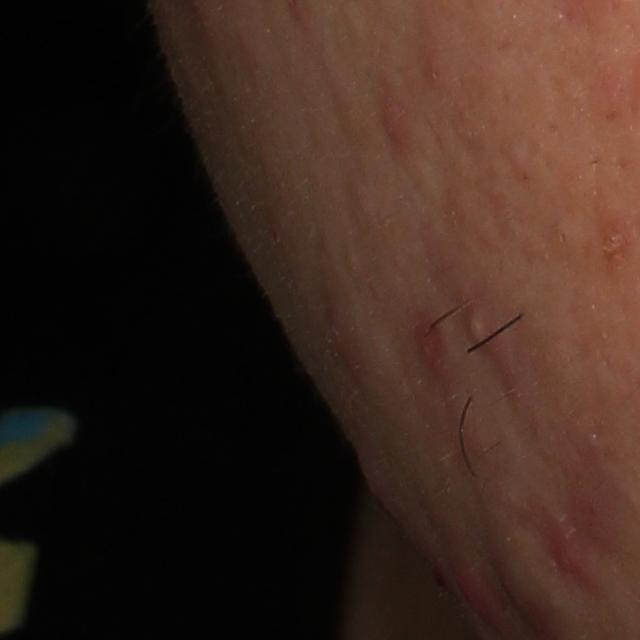papule: (450, 566, 505, 636), (547, 519, 588, 578), (374, 87, 406, 156), (412, 313, 449, 366)
